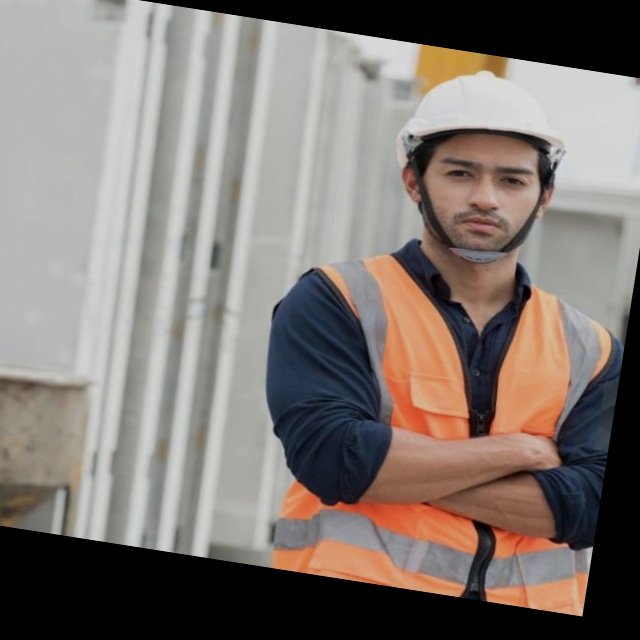Con_Casco: (378, 61, 579, 274)
Con_Chaleco: (264, 243, 633, 616)
